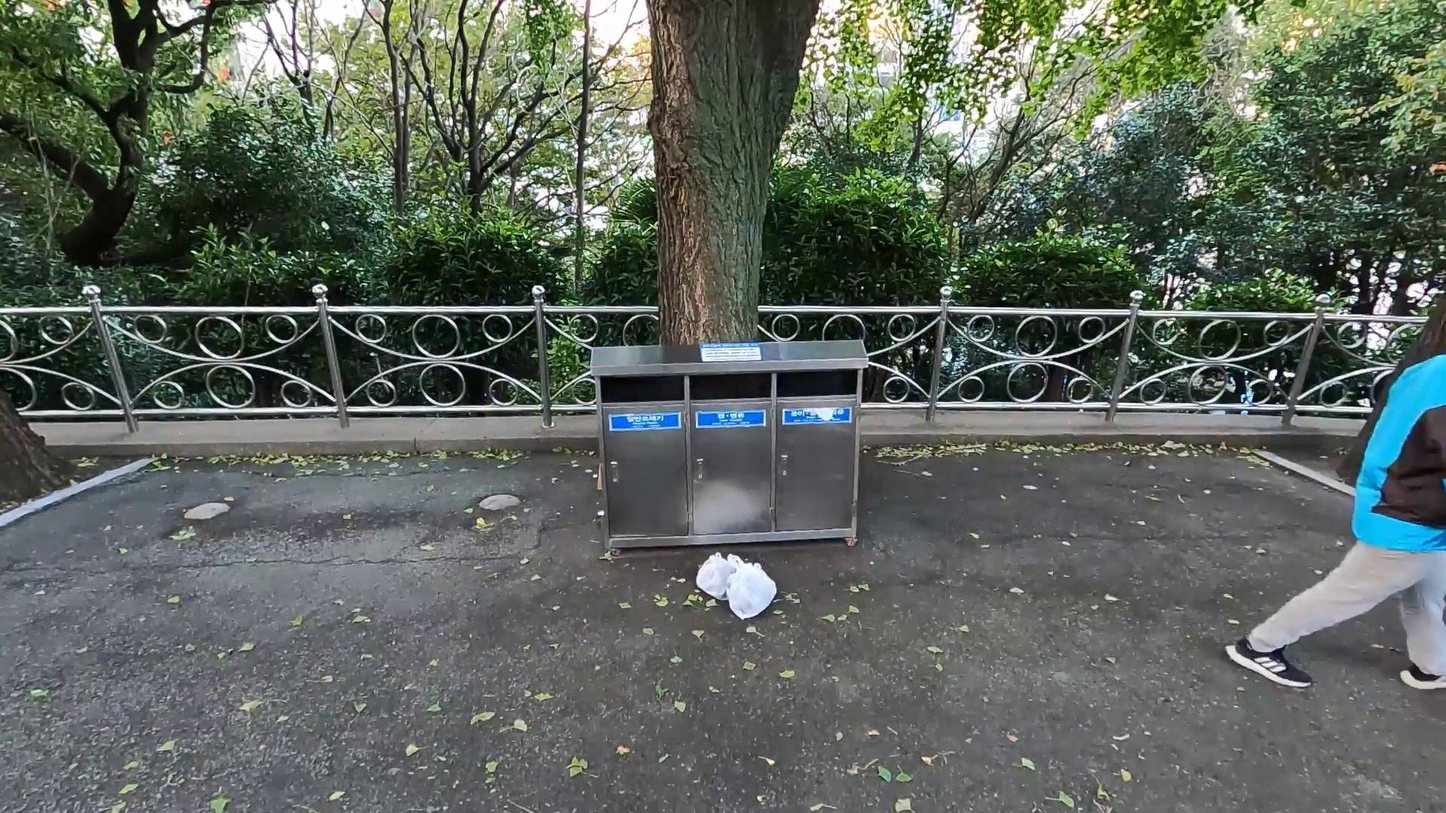person: (1223, 350, 1446, 694)
trash: (724, 559, 777, 621), (694, 551, 754, 599)
